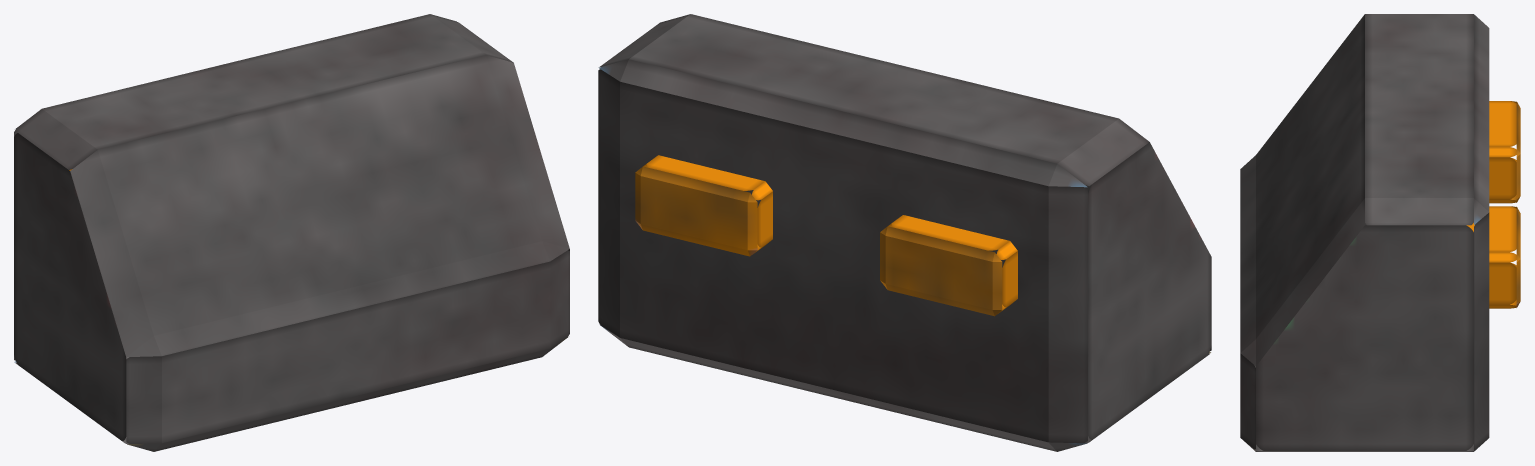
File: buffer.obj
3 views of the same model, side by side, from view 1: azimuth 30°, elevation 25°; view 2: azimuth 150°, elevation 25°; view 3: azimuth 270°, elevation 25° (orthographic). The views are drawn at different scales.
Visible parts, largest first — view 1: beveled_cuboid; view 2: beveled_cuboid; view 3: beveled_cuboid.
Part boxes in pixels (<box>): beveled_cuboid: <box>14,14,569,451</box>; beveled_cuboid: <box>598,14,1211,451</box>; beveled_cuboid: <box>1240,14,1520,451</box>.
Size of the model in its own units: 1 by 0.5625 by 0.5625.
1 material, 1 textured.
